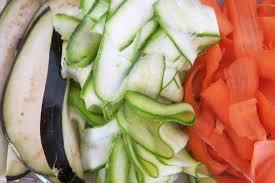Organic: (1, 0, 275, 183)
